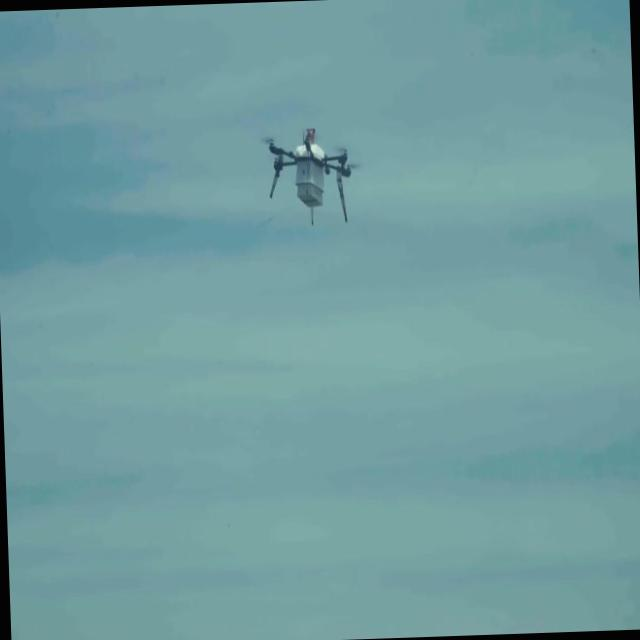drone: (262, 124, 355, 227)
